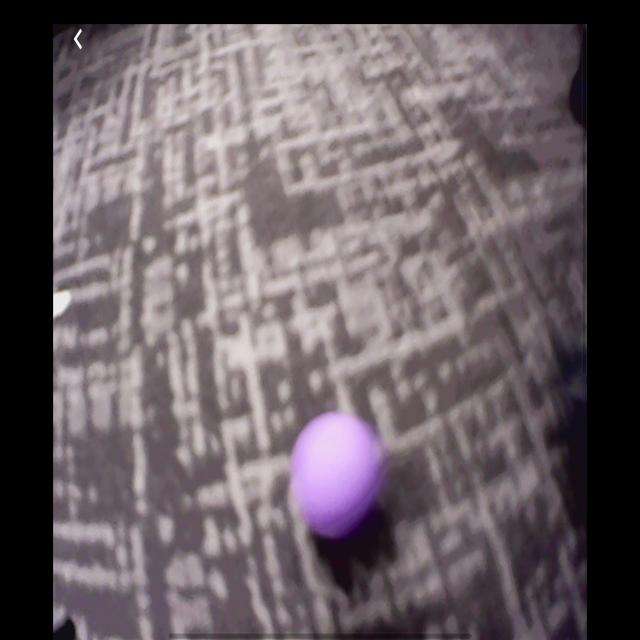ball: (289, 410, 389, 542)
